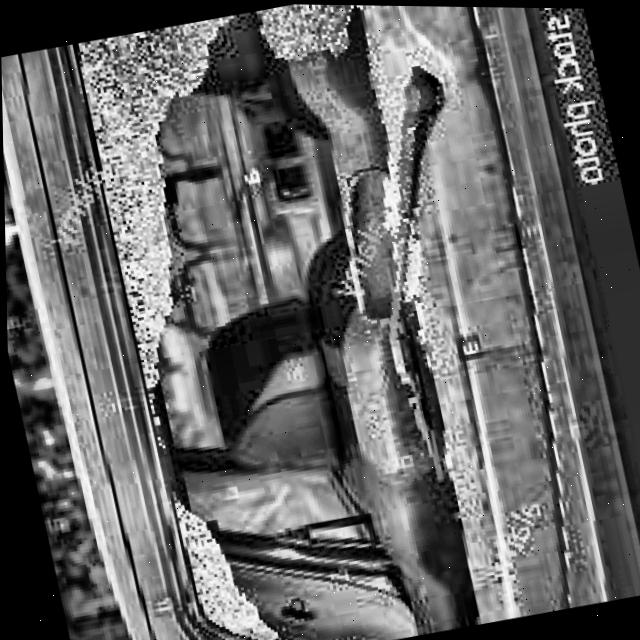glass_shatter: (73, 1, 498, 640)
